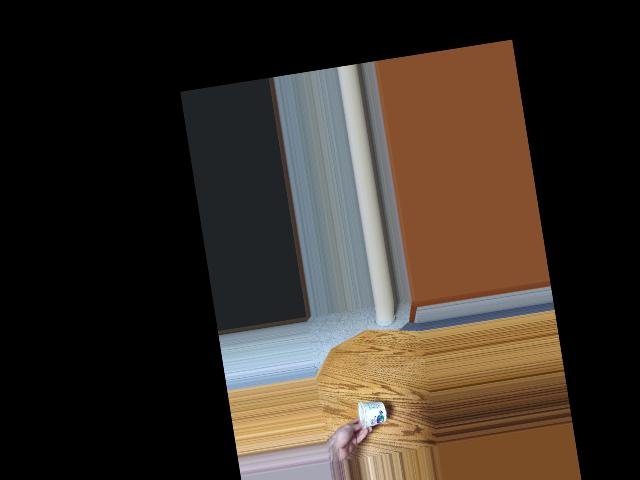cotage: (355, 395, 386, 431)
